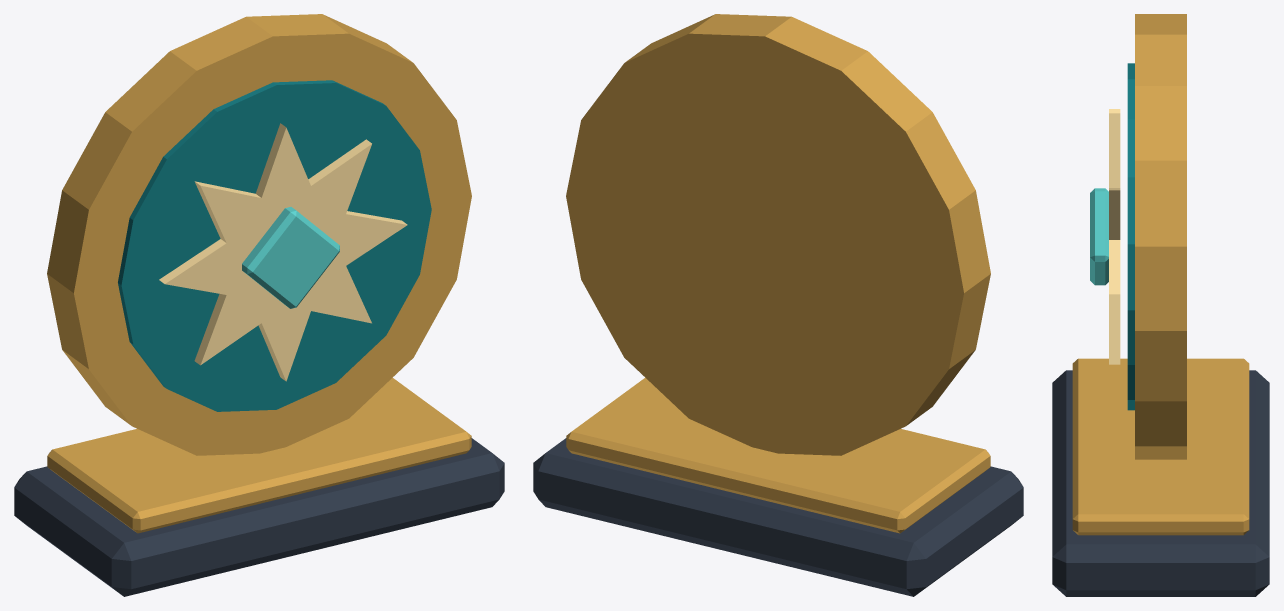
File: 15_Reward_Medallion.glb
3 views of the same model, side by side, from view 1: azimuth 30°, elevation 25°; view 2: azimuth 150°, elevation 25°; view 3: azimuth 270°, elevation 25° (orthographic). The views are drawn at different scales.
Parts seen in each view (by area): view 1: 15_Reward_Medallion__Body; view 2: 15_Reward_Medallion__Body; view 3: 15_Reward_Medallion__Body.
Part boxes in pixels (x1=…): 15_Reward_Medallion__Body: x1=14, y1=14, x2=504, y2=596; 15_Reward_Medallion__Body: x1=533, y1=14, x2=1023, y2=596; 15_Reward_Medallion__Body: x1=1052, y1=14, x2=1269, y2=596.
Size of the model in its own units: 1.54 by 1.81 by 0.75.
1 material, 1 textured.
